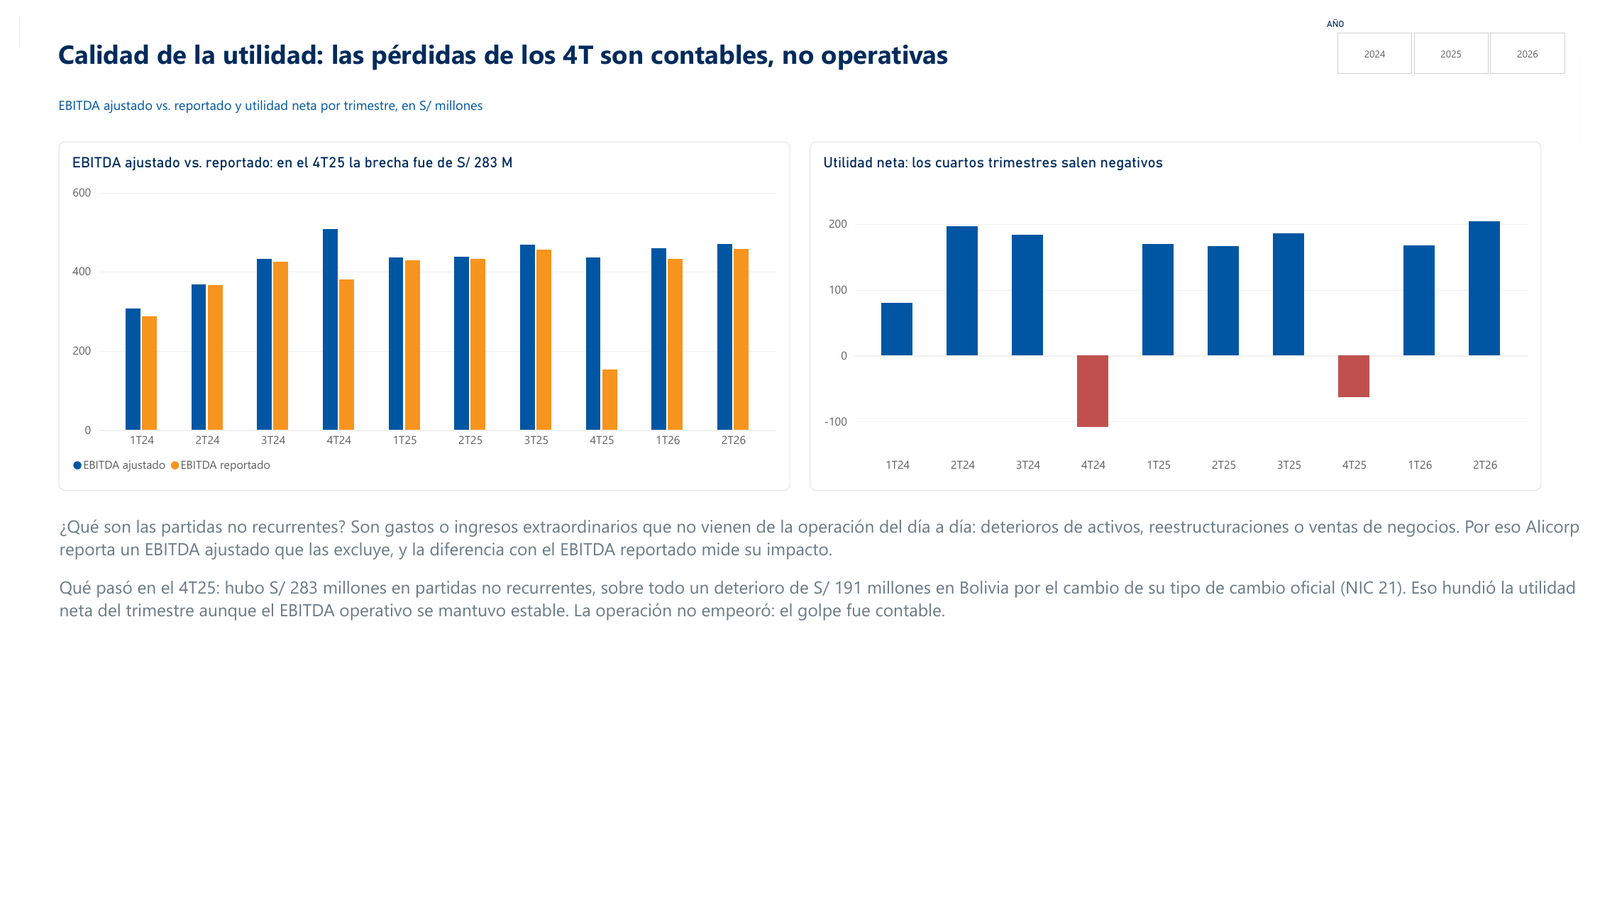

This screenshot's page, from the dashboard's own definition file:
{"tool":"powerbi","page":{"name":"Calidad de la Utilidad","canvas":[1920,1080],"ordinal":2},"visuals":[{"type":"slicer","fields":{"Values":["dim_trimestre.anio"]},"box":[1600,0,320,68.6],"z":0},{"type":"textbox","box":[48,20,1500,70],"z":1000},{"type":"textbox","box":[48,95,700,30],"z":2000},{"type":"clusteredColumnChart","title":"EBITDA ajustado vs. reportado: en el 4T25 la brecha fue de S/ 283 M","fields":{"Category":["dim_trimestre.etiqueta"],"Y":["_Medidas.EBITDA ajustado","_Medidas.EBITDA reportado"]},"box":[48,150,900,430],"z":3000},{"type":"clusteredColumnChart","title":"Utilidad neta: los cuartos trimestres salen negativos","fields":{"Category":["dim_trimestre.etiqueta"],"Y":["_Medidas.Utilidad neta"]},"box":[972,150,900,430],"z":4000},{"type":"textbox","box":[48.7,609.1,1872.1,276.1],"z":5000}]}

Visuals, with their boxes in screenshot pixels (x1, y1, x2, y2), scaled from the page's 1920x1080 canvas onto the 1600x917 screenshot:
slicer - dim_trimestre.anio: detection(1333, 0, 1599, 58)
textbox: detection(40, 17, 1290, 76)
textbox: detection(40, 81, 623, 106)
"EBITDA ajustado vs. reportado: en el 4T25 la brecha fue de S/ 283 M" clusteredColumnChart: detection(40, 127, 790, 492)
"Utilidad neta: los cuartos trimestres salen negativos" clusteredColumnChart: detection(810, 127, 1560, 492)
textbox: detection(41, 517, 1599, 752)
